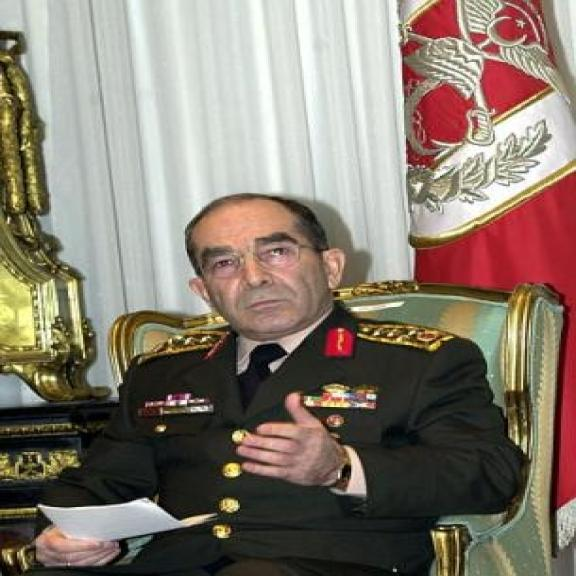face: (186, 214, 346, 341)
